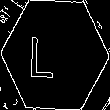L_N: (41, 30, 69, 80)
